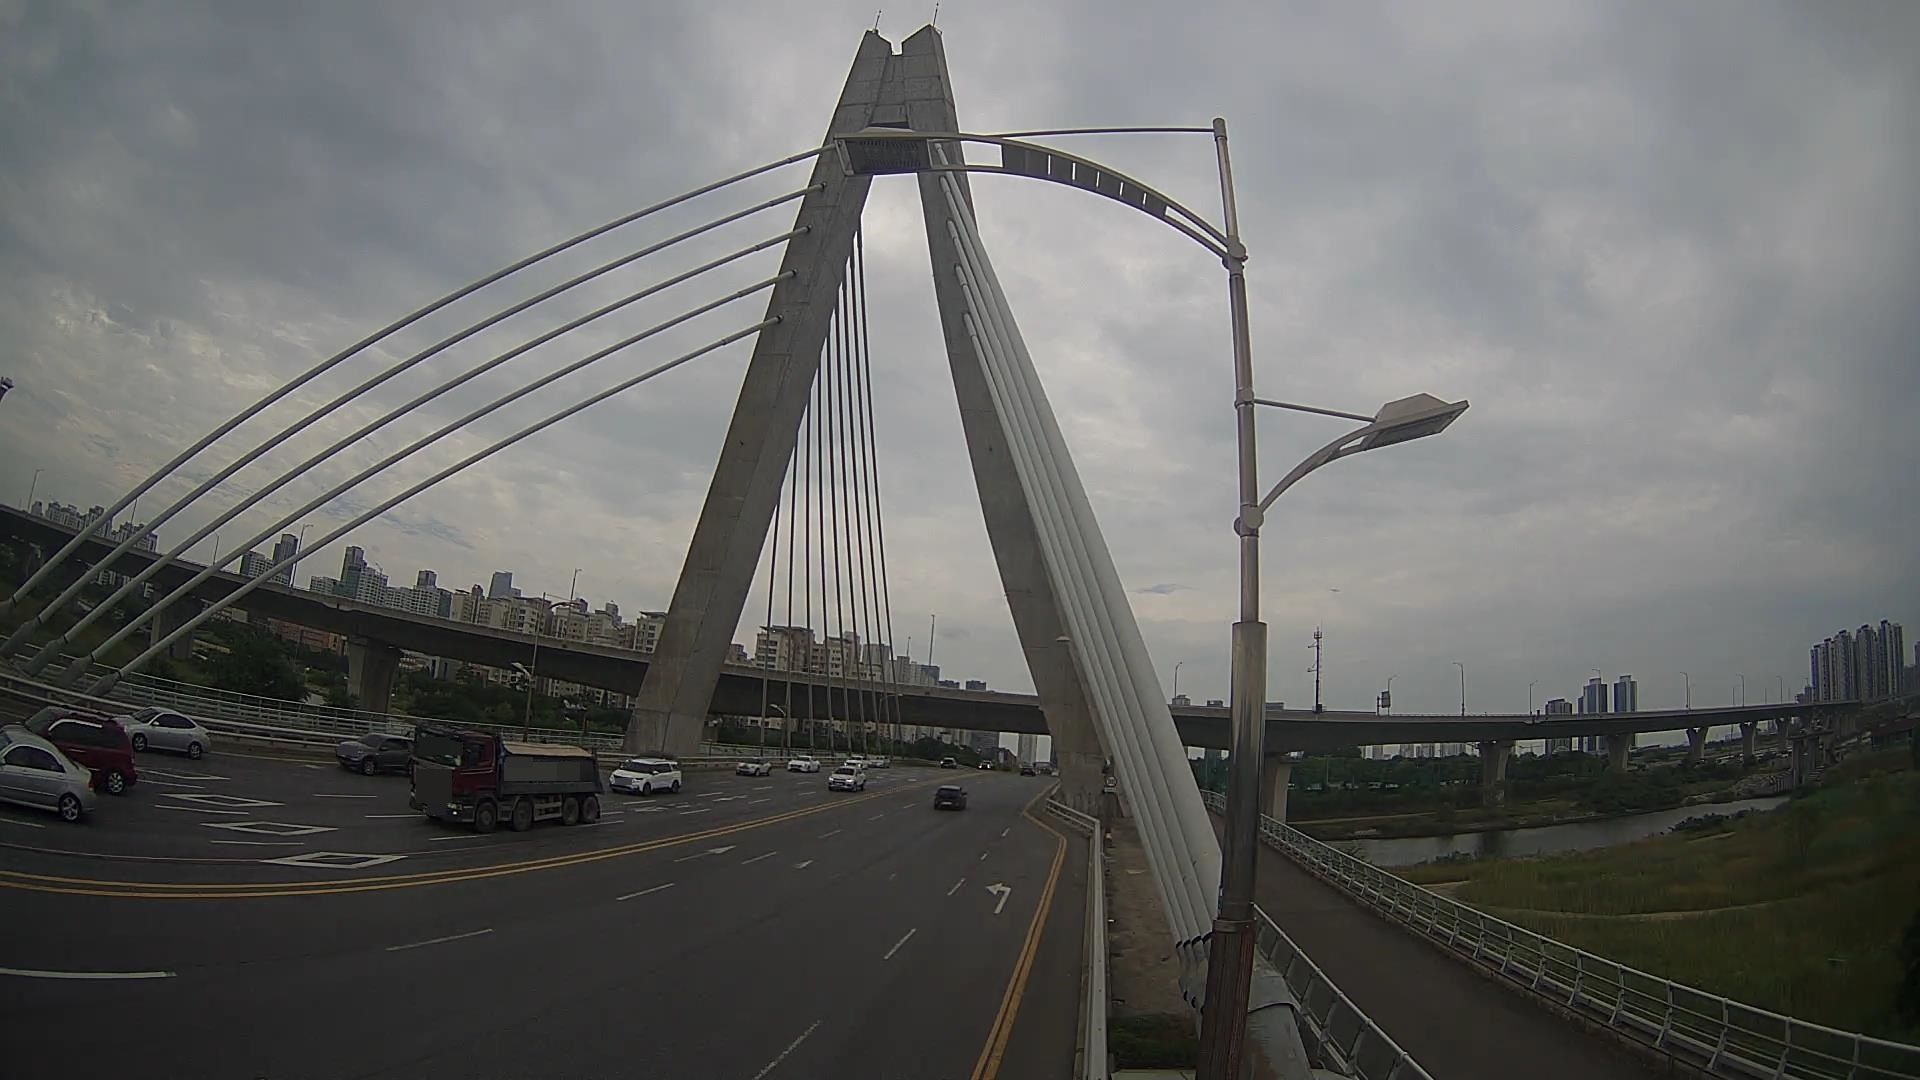정상차량: (405, 708, 607, 837)
